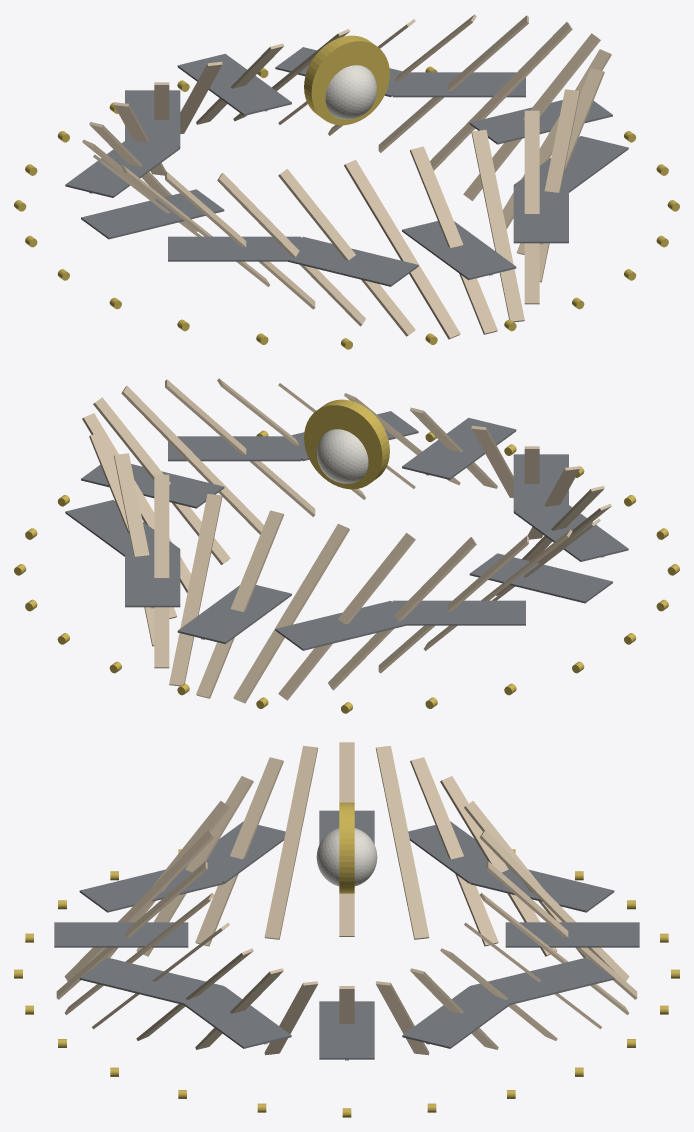
The model's file is stratavox_vaulted.glb.
The picture shows the model from 3 angles, top to bottom: view 1: azimuth 30°, elevation 25°; view 2: azimuth 150°, elevation 25°; view 3: azimuth 270°, elevation 25°; orthographic projection.
Visible parts, largest first — view 1: geometry_0, geometry_28, geometry_34, geometry_40, geometry_22, geometry_18, geometry_58, geometry_70, geometry_24, geometry_46, geometry_14, geometry_16 (+23 smaller); view 2: geometry_0, geometry_46, geometry_52, geometry_40, geometry_58, geometry_60, geometry_10, geometry_22, geometry_54, geometry_34, geometry_62, geometry_64 (+23 smaller); view 3: geometry_64, geometry_10, geometry_70, geometry_36, geometry_42, geometry_22, geometry_58, geometry_16, geometry_4, geometry_32, geometry_44, geometry_28 (+26 smaller).
Part boxes in pixels (<box>): geometry_0: <box>304,35,389,125</box>; geometry_28: <box>280,236,418,286</box>; geometry_34: <box>168,236,301,261</box>; geometry_40: <box>81,189,224,239</box>; geometry_22: <box>402,221,516,280</box>; geometry_18: <box>471,129,524,322</box>; geometry_58: <box>177,53,291,115</box>; geometry_70: <box>392,72,525,97</box>; geometry_24: <box>344,160,460,339</box>; geometry_46: <box>65,136,179,197</box>; geometry_14: <box>524,110,539,304</box>; geometry_16: <box>513,185,568,243</box>; geometry_0: <box>304,399,389,489</box>; geometry_46: <box>392,600,525,625</box>; geometry_52: <box>275,600,406,650</box>; geometry_40: <box>469,553,612,603</box>; geometry_58: <box>177,585,291,644</box>; geometry_60: <box>169,493,222,686</box>; geometry_10: <box>168,436,301,461</box>; geometry_22: <box>402,417,516,479</box>; geometry_54: <box>233,524,349,703</box>; geometry_34: <box>514,500,628,561</box>; geometry_62: <box>154,474,169,668</box>; geometry_64: <box>125,549,180,607</box>; geometry_64: <box>470,957,614,1005</box>; geometry_10: <box>177,986,291,1048</box>; geometry_70: <box>402,986,516,1048</box>; geometry_36: <box>264,745,318,939</box>; geometry_42: <box>375,745,429,939</box>; geometry_22: <box>54,922,188,947</box>; geometry_58: <box>505,922,639,947</box>; geometry_16: <box>79,957,223,1005</box>; geometry_4: <box>319,1001,374,1059</box>; geometry_32: <box>195,757,283,946</box>; geometry_44: <box>410,757,498,946</box>; geometry_28: <box>79,865,223,912</box>.
Size of the model in its own units: 2.64 by 0.8287 by 2.63.
